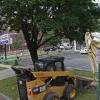Tractor: (12, 50, 87, 100)
